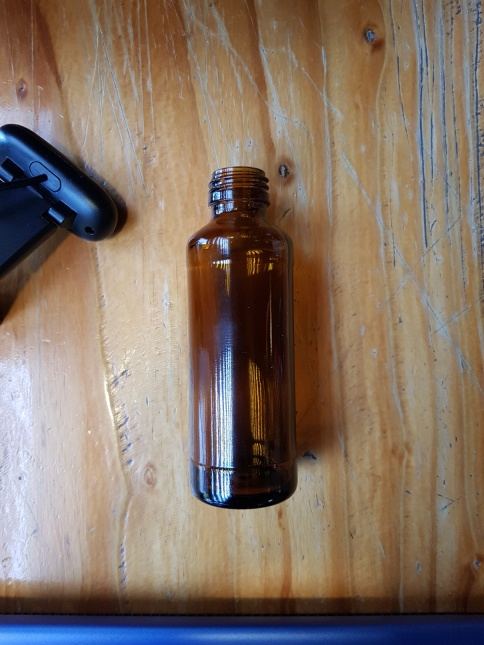Glass: (182, 161, 305, 510)
